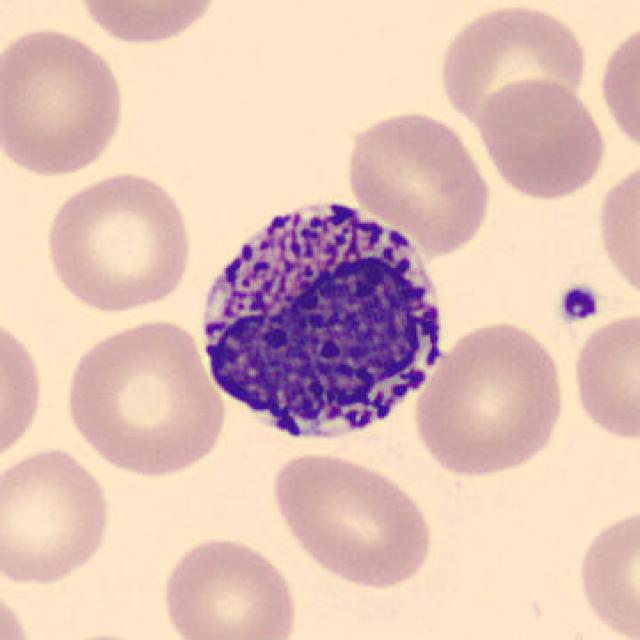basophil: (201, 199, 448, 425)
platelets: (554, 280, 606, 328)
rbc: (68, 324, 230, 469), (275, 455, 435, 599), (346, 108, 492, 250), (0, 18, 120, 185), (46, 180, 188, 309), (435, 331, 555, 476), (442, 1, 587, 114), (169, 537, 315, 640), (478, 86, 603, 204), (0, 456, 113, 582), (76, 0, 240, 55), (573, 522, 640, 633), (583, 322, 640, 448), (0, 321, 57, 446), (603, 27, 640, 158), (601, 175, 640, 287)
